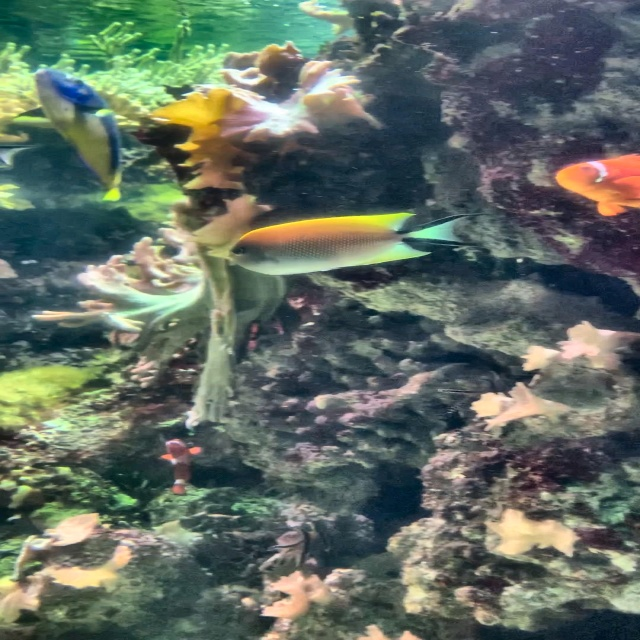fish: (227, 211, 491, 277), (20, 67, 127, 202), (553, 152, 639, 219), (160, 438, 203, 496)
